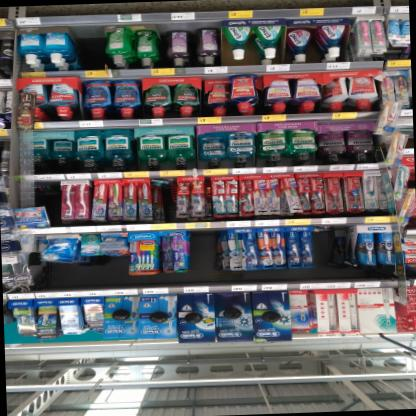empty_space: (315, 216, 352, 271), (188, 222, 218, 279), (79, 16, 108, 69)
